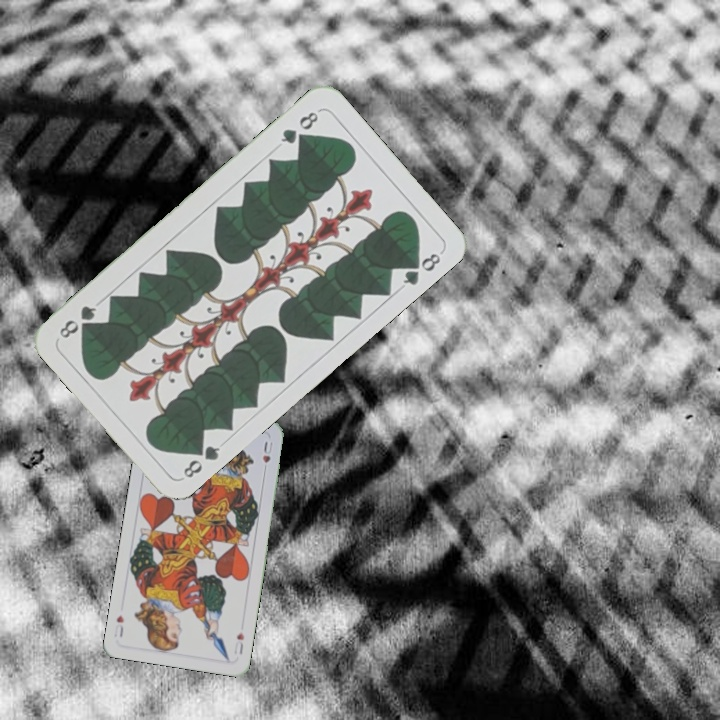G8: (179, 438, 223, 481), (277, 106, 323, 147)
HU: (230, 628, 247, 657)
